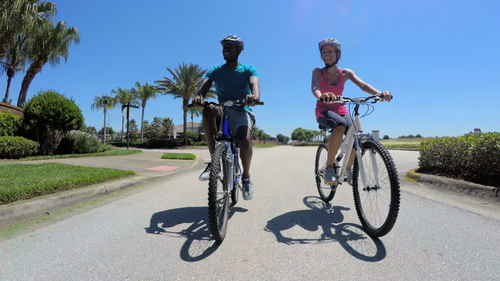bikerider: (304, 33, 417, 249), (182, 33, 267, 241)
